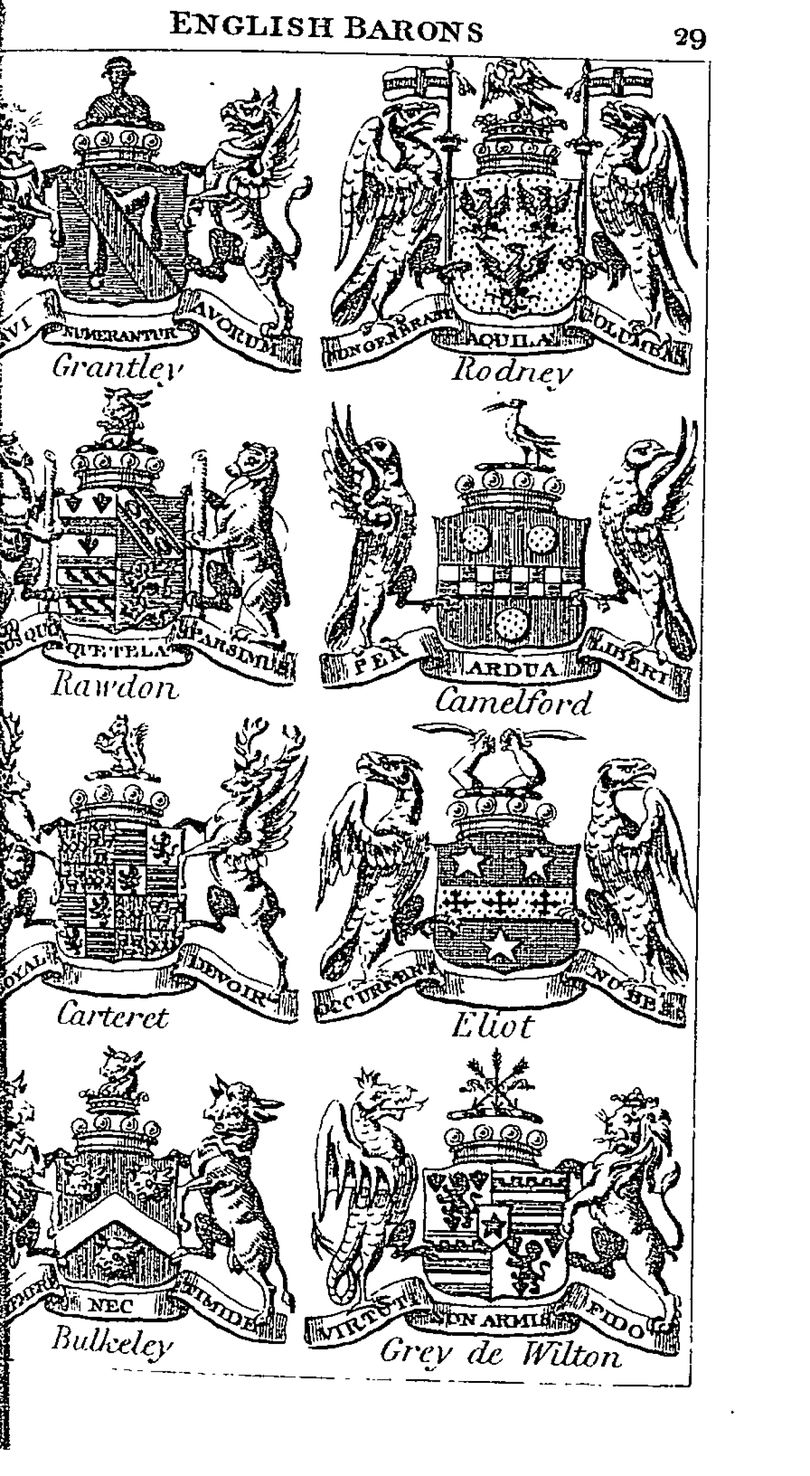coat_of_arms: (311, 391, 702, 717), (322, 58, 701, 391), (308, 1052, 682, 1377), (330, 719, 687, 1049), (2, 53, 305, 388), (8, 705, 306, 1040), (5, 387, 308, 708), (10, 1041, 299, 1365)
